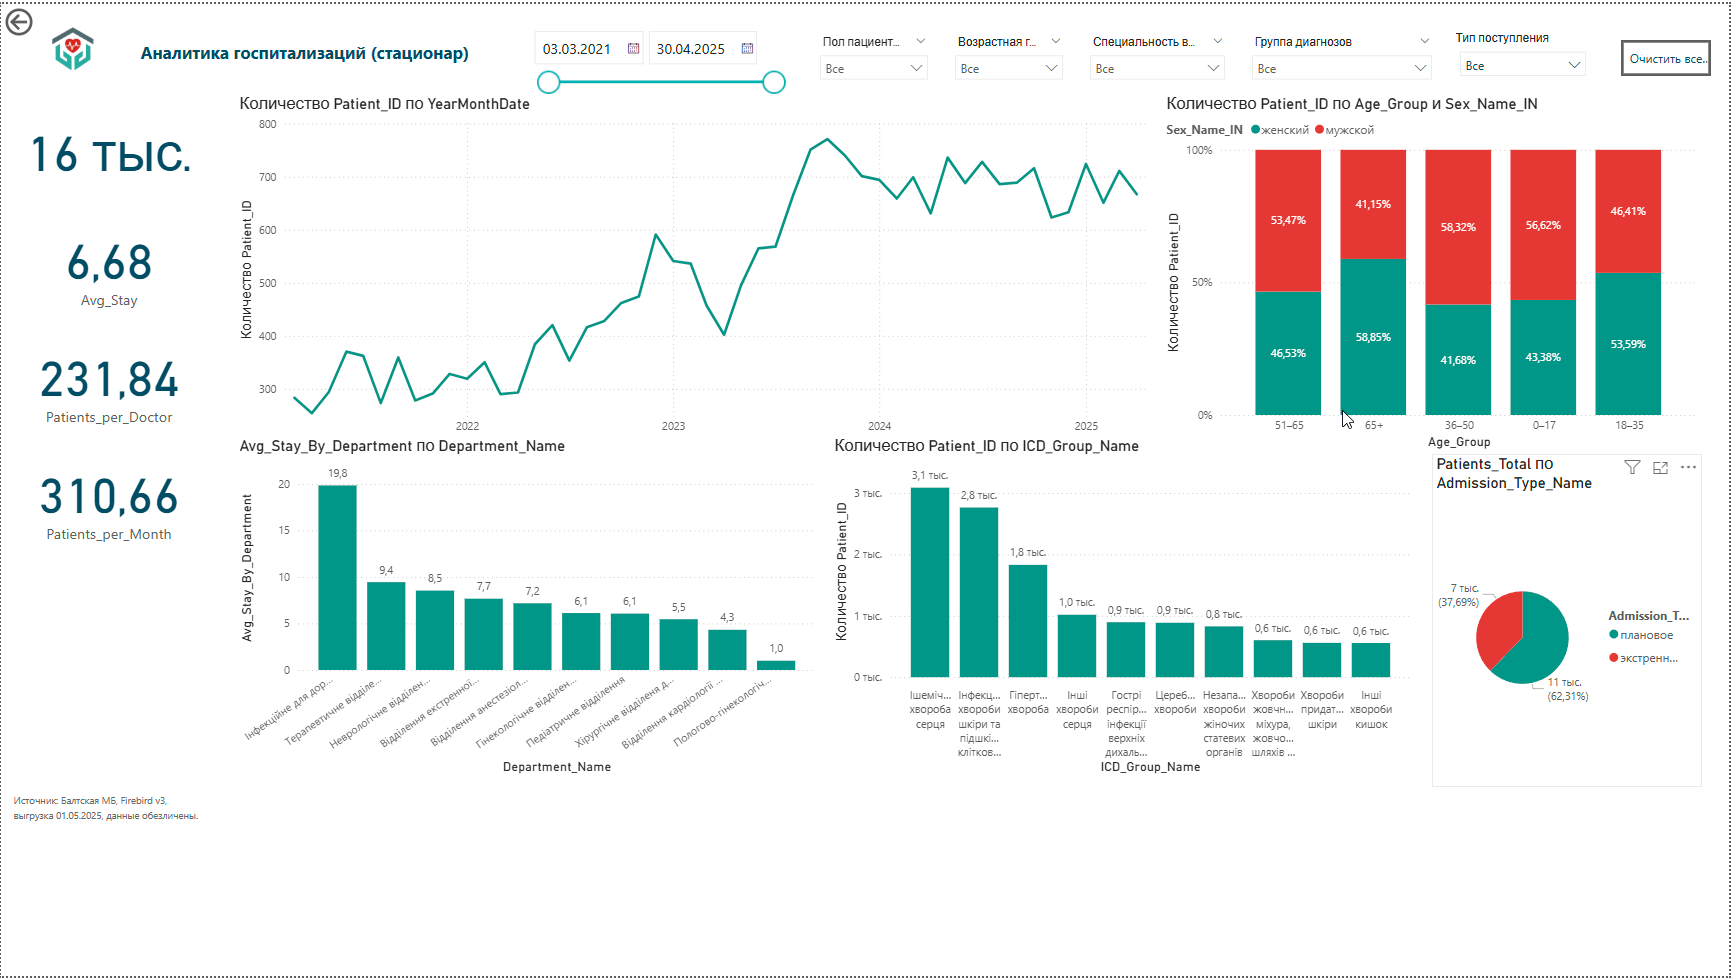

The page's visual inventory and layout, read from the dashboard file:
{"tool":"powerbi","page":{"name":"Стационар","canvas":[1920,1080],"ordinal":0},"visuals":[{"type":"slicer","fields":{"Values":["vw_Inpatient.Admission_Date"]},"box":[580,20,300,100],"z":0},{"type":"image","box":[20,20,120,60],"z":1000},{"type":"textbox","box":[150,35,400,40],"z":2000},{"type":"card","fields":{"Values":["vw_Inpatient.Patients_Total"]},"box":[20,100,200,120],"z":3000},{"type":"card","fields":{"Values":["vw_Inpatient.Avg_Stay"]},"box":[20,230,200,120],"z":4000},{"type":"textbox","box":[9,870,1870,50],"z":5000},{"type":"slicer","title":"Тип поступления","fields":{"Values":["vw_Inpatient.Admission_Type_Name"]},"box":[1611.1,30,160,60],"z":6000},{"type":"actionButton","title":"Очистить все","box":[1800,40,100,40],"z":7000},{"type":"card","fields":{"Values":["vw_Inpatient.Patients_per_Doctor"]},"box":[20,360,200,120],"z":8000},{"type":"card","fields":{"Values":["vw_Inpatient.Patients_per_Month"]},"box":[20,490,200,120],"z":9000},{"type":"actionButton","box":[0,0,100,40],"z":10000},{"type":"lineChart","fields":{"Y":["CountNonNull(vw_Inpatient.Patient_ID)"],"Category":["vw_Inpatient.YearMonthDate"]},"box":[260,100,1020,400],"z":11000},{"type":"slicer","fields":{"Values":["vw_Inpatient.Specialty_Name"]},"box":[1200,30,170,60],"z":12000},{"type":"slicer","fields":{"Values":["vw_Inpatient.ICD_Group_Name"]},"box":[1380,30,220,60],"z":13000},{"type":"slicer","fields":{"Values":["vw_Inpatient.Age_Group"]},"box":[1050,30,140,60],"z":14000},{"type":"slicer","fields":{"Values":["vw_Inpatient.Sex_Name"]},"box":[900,30,140,60],"z":15000},{"type":"columnChart","fields":{"Category":["vw_Inpatient.Department_Name"],"Y":["vw_Inpatient.Avg_Stay_By_Department"]},"box":[260,480,650,380],"z":16000},{"type":"hundredPercentStackedColumnChart","fields":{"Category":["vw_Inpatient.Age_Group"],"Series":["vw_Inpatient.Sex_Name"],"Y":["CountNonNull(vw_Inpatient.Patient_ID)"]},"box":[1290,100,600,400],"z":17000},{"type":"columnChart","fields":{"Category":["vw_Inpatient.ICD_Group_Name"],"Y":["CountNonNull(vw_Inpatient.Patient_ID)"]},"box":[921,480,650,380],"z":18000},{"type":"pieChart","fields":{"Y":["vw_Inpatient.Patients_Total"],"Category":["vw_Inpatient.Admission_Type_Name"]},"box":[1590,500,300,370],"z":19000}]}

Visuals, with their boxes in screenshot pixels (x1, y1, x2, y2), scaled from the page's 1920x1080 canvas onto the 1733x980 screenshot:
slicer - vw_Inpatient.Admission_Date: [524, 18, 794, 109]
image: [18, 18, 126, 73]
textbox: [135, 32, 496, 68]
card - vw_Inpatient.Patients_Total: [18, 91, 199, 200]
card - vw_Inpatient.Avg_Stay: [18, 209, 199, 318]
textbox: [8, 789, 1696, 835]
"Тип поступления" slicer: [1454, 27, 1599, 82]
"Очистить все" actionButton: [1625, 36, 1715, 73]
card - vw_Inpatient.Patients_per_Doctor: [18, 327, 199, 436]
card - vw_Inpatient.Patients_per_Month: [18, 445, 199, 554]
actionButton: [0, 0, 90, 36]
lineChart - CountNonNull(vw_Inpatient.Patient_ID) x vw_Inpatient.YearMonthDate: [235, 91, 1155, 454]
slicer - vw_Inpatient.Specialty_Name: [1083, 27, 1237, 82]
slicer - vw_Inpatient.ICD_Group_Name: [1246, 27, 1444, 82]
slicer - vw_Inpatient.Age_Group: [948, 27, 1074, 82]
slicer - vw_Inpatient.Sex_Name: [812, 27, 939, 82]
columnChart - vw_Inpatient.Department_Name x vw_Inpatient.Avg_Stay_By_Department: [235, 436, 821, 780]
hundredPercentStackedColumnChart - vw_Inpatient.Age_Group x vw_Inpatient.Sex_Name: [1164, 91, 1706, 454]
columnChart - vw_Inpatient.ICD_Group_Name x CountNonNull(vw_Inpatient.Patient_ID): [831, 436, 1418, 780]
pieChart - vw_Inpatient.Patients_Total x vw_Inpatient.Admission_Type_Name: [1435, 454, 1706, 789]
